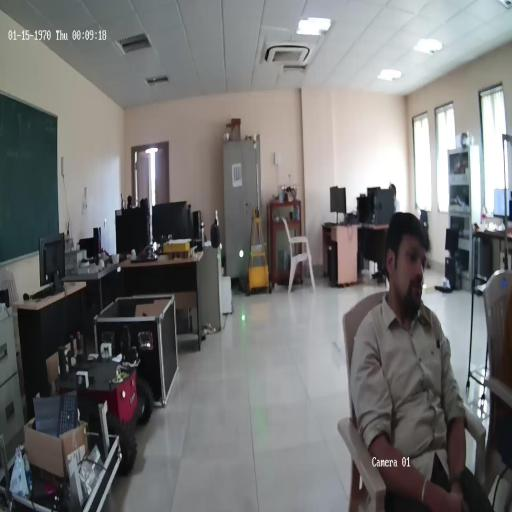laser: (238, 249, 244, 257)
